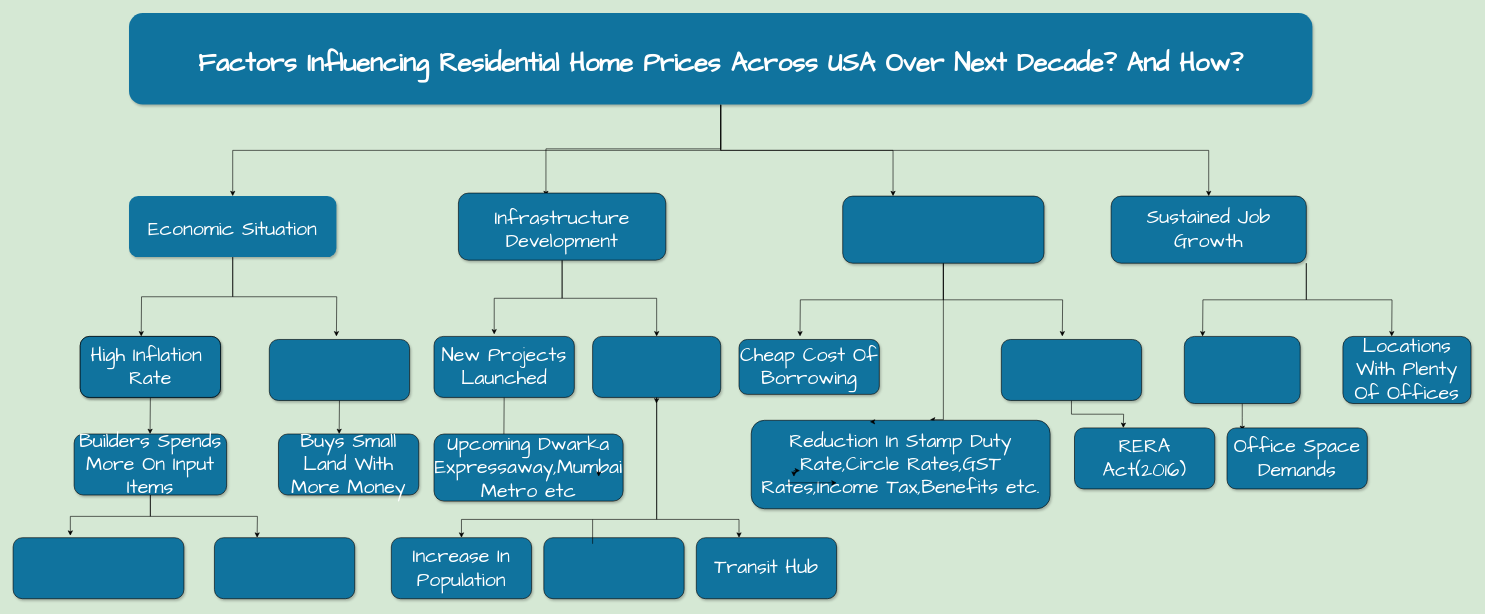
Some shapes in this 1485 by 614 pixel diagram are drawn without their labels. The centre of each missing label's shape, as x and y in pixels:
"Booming IT Market" belongs at point (1242, 370).
"Construction Materials,Labour." belongs at point (99, 569).
"GDP Rate Increase" belongs at point (284, 569).
"Introduction Of New Acts" belongs at point (1071, 370).
"New Connectivity" belongs at point (657, 367).
"Policy Changes" belongs at point (944, 230).
"Transport Road" belongs at point (614, 569).
"Value Of Money Will Reduce" belongs at point (339, 370).
